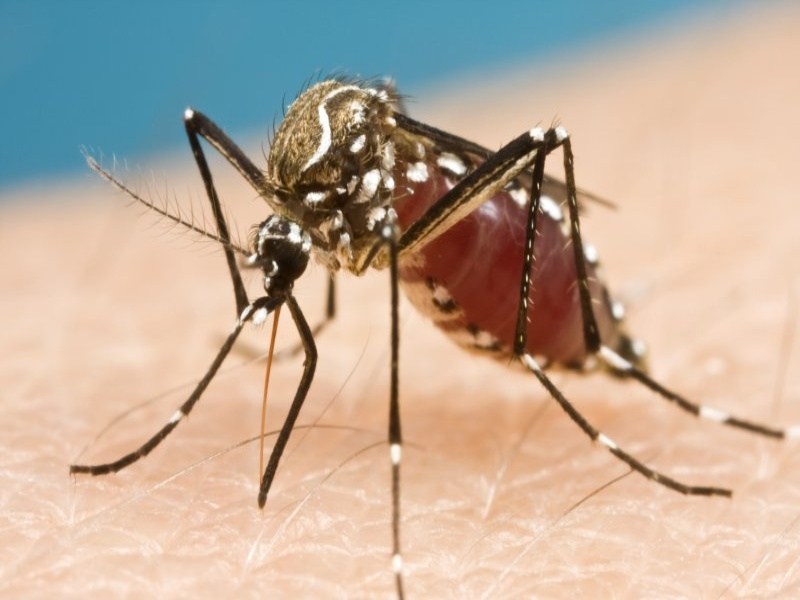dengue_mosquito: (100, 70, 603, 424)
